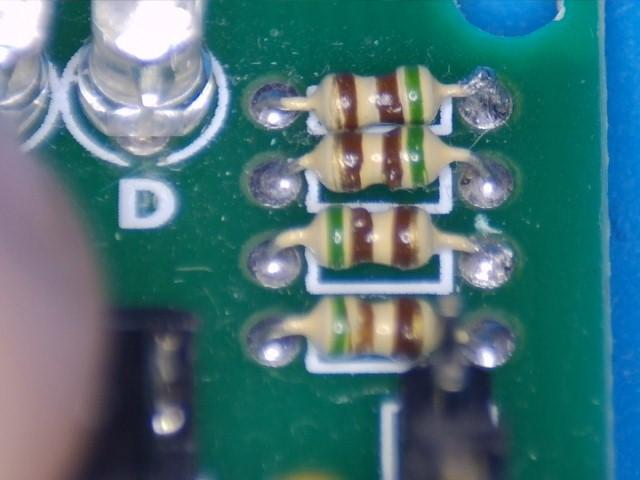Dry_joint: (460, 68, 511, 129)
